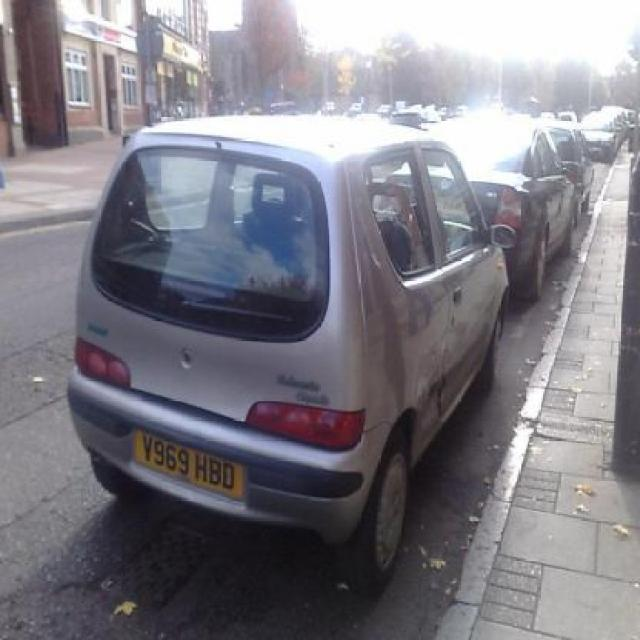License-Plates: (133, 430, 247, 500)
